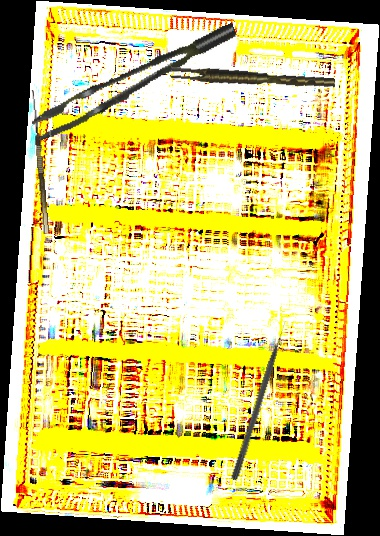Hook Surgical: (23, 89, 50, 235)
Pusher: (230, 319, 291, 482)
Tissue Forceps: (23, 22, 248, 142), (169, 61, 336, 96)
